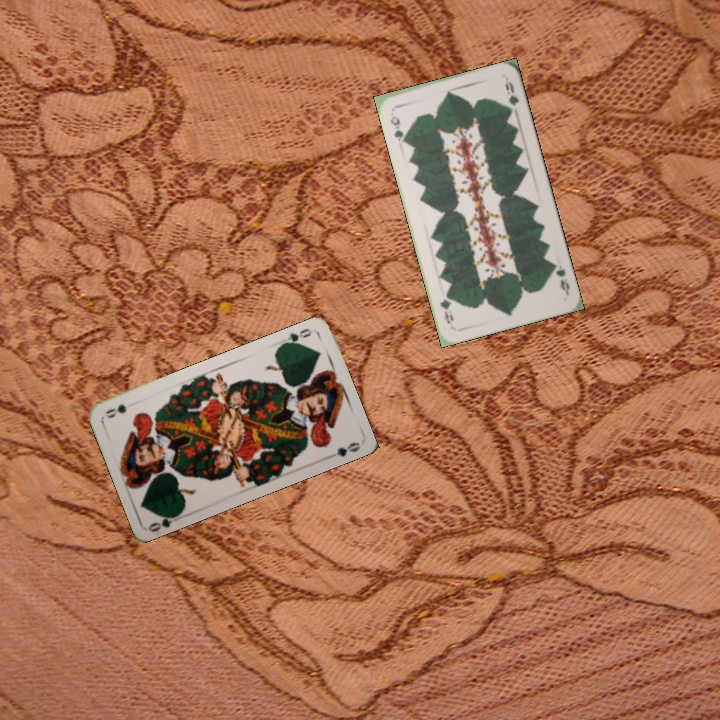G9: (548, 259, 572, 297), (386, 112, 409, 145)
GO: (146, 508, 184, 534), (277, 324, 314, 349)
